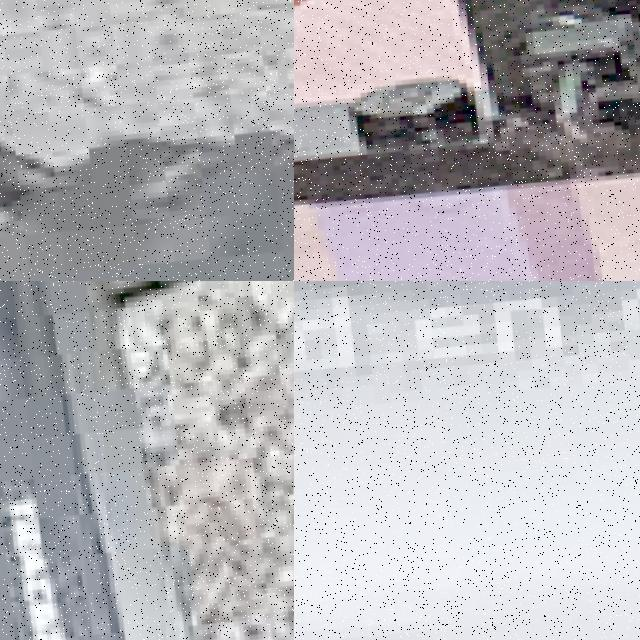0: (0, 281, 294, 640), (0, 0, 294, 281)
drone: (294, 281, 640, 640), (294, 0, 640, 281)
